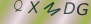D: (63, 1, 76, 15)
G: (75, 2, 90, 16)
M: (44, 2, 61, 16)
Q: (12, 1, 24, 12)
X: (27, 1, 41, 14)
